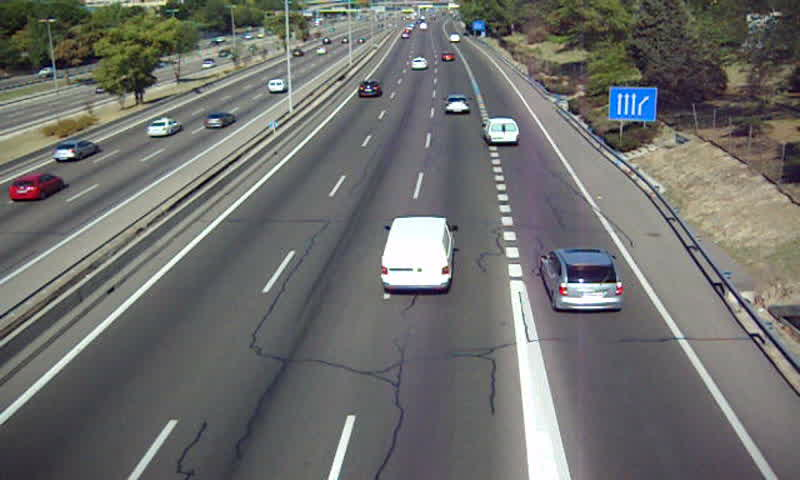car: (543, 249, 623, 310), (442, 94, 473, 116), (357, 80, 381, 99), (410, 55, 428, 70), (440, 51, 456, 63)
van: (379, 217, 454, 291), (483, 119, 519, 144)
